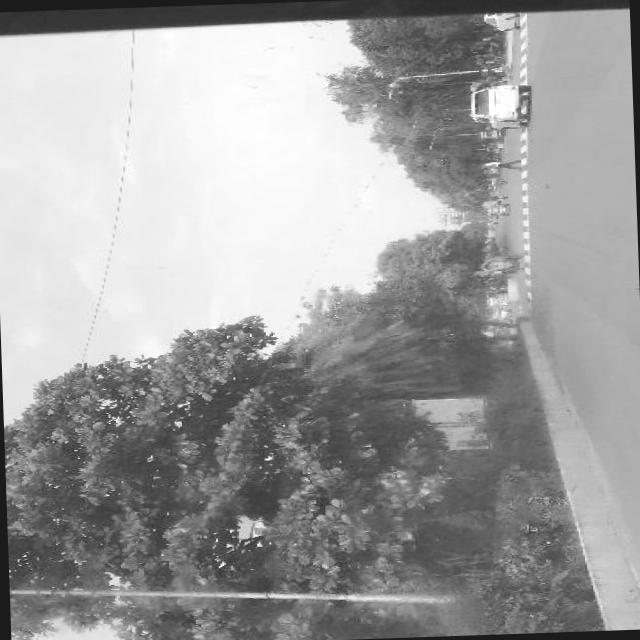bus: (485, 290, 510, 304)
car: (467, 82, 530, 128), (481, 10, 520, 30), (486, 201, 508, 216)
motorcycle: (478, 248, 528, 272), (486, 178, 506, 184), (486, 192, 506, 198), (486, 184, 501, 188)
truck: (494, 305, 512, 316)
